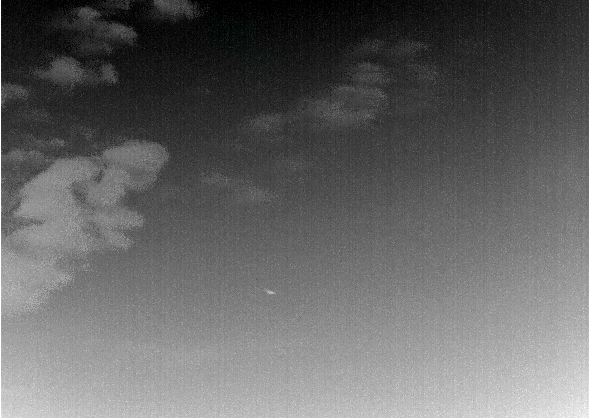dim target: (265, 289, 276, 296)
